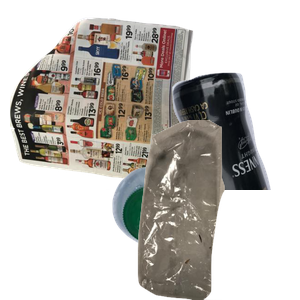glass: (106, 70, 300, 250)
paper: (10, 15, 196, 195)
plastic: (110, 164, 300, 300)
trash: (114, 120, 300, 300)
